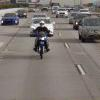Motorcycle: (25, 18, 56, 66)
